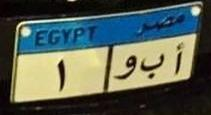1: (53, 55, 70, 92)
alif: (172, 41, 186, 78)
baa: (140, 52, 165, 81)
waw: (112, 53, 138, 84)
